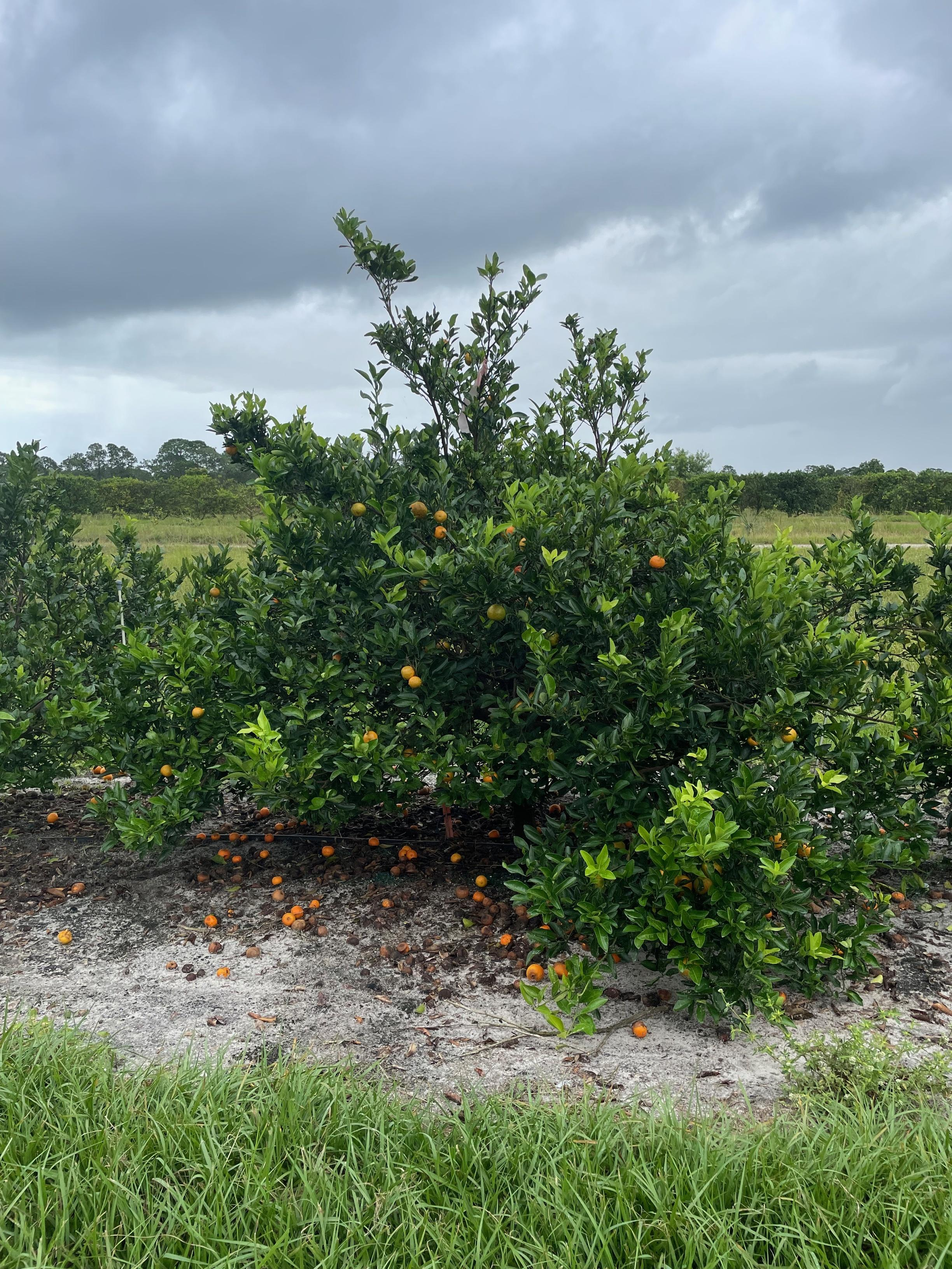fruit_on_ground: (691, 874, 715, 897), (767, 829, 790, 853), (406, 498, 430, 521), (900, 721, 924, 743), (485, 601, 508, 623), (672, 875, 694, 897), (700, 858, 724, 878), (778, 724, 799, 745), (794, 839, 816, 859), (646, 551, 668, 570), (543, 629, 562, 647), (744, 731, 763, 749), (349, 501, 368, 518), (399, 664, 418, 681), (361, 729, 380, 745), (432, 525, 449, 541), (432, 508, 449, 524), (516, 535, 532, 551), (158, 762, 174, 778), (434, 640, 452, 654), (407, 675, 423, 690), (462, 351, 477, 367), (482, 771, 499, 785), (190, 705, 205, 720), (207, 584, 223, 598), (224, 442, 239, 456), (441, 769, 455, 783), (402, 746, 416, 760)
fruit_on_tree: (525, 962, 544, 982), (551, 960, 570, 979), (630, 1021, 649, 1038), (890, 889, 908, 904), (926, 888, 943, 902), (290, 918, 307, 932), (499, 931, 513, 946), (547, 802, 563, 815), (773, 989, 787, 1003), (396, 939, 410, 953), (208, 939, 222, 953), (281, 912, 295, 926), (204, 913, 218, 927), (216, 965, 231, 978), (320, 844, 336, 856), (394, 803, 408, 816), (196, 870, 210, 883), (315, 923, 329, 936), (389, 863, 403, 876), (455, 884, 469, 897), (46, 810, 60, 823), (471, 890, 486, 902), (474, 874, 489, 886), (258, 806, 272, 818), (271, 889, 285, 901), (290, 905, 304, 917), (540, 920, 553, 932), (609, 951, 621, 964), (217, 847, 230, 859), (488, 827, 501, 839), (405, 848, 418, 860), (621, 818, 635, 829), (367, 837, 381, 848), (379, 945, 391, 957), (416, 785, 429, 796), (381, 897, 394, 908), (450, 852, 463, 863), (286, 817, 298, 828), (308, 898, 320, 909), (229, 830, 241, 841), (258, 849, 270, 860), (271, 874, 283, 885), (91, 764, 104, 774), (194, 831, 207, 841), (274, 822, 285, 833), (89, 795, 100, 806), (397, 848, 408, 859), (231, 854, 243, 864), (210, 831, 221, 841), (401, 844, 412, 854), (102, 773, 114, 782), (408, 823, 420, 832), (299, 816, 310, 825), (339, 871, 350, 880), (262, 832, 273, 841), (238, 832, 249, 841)
